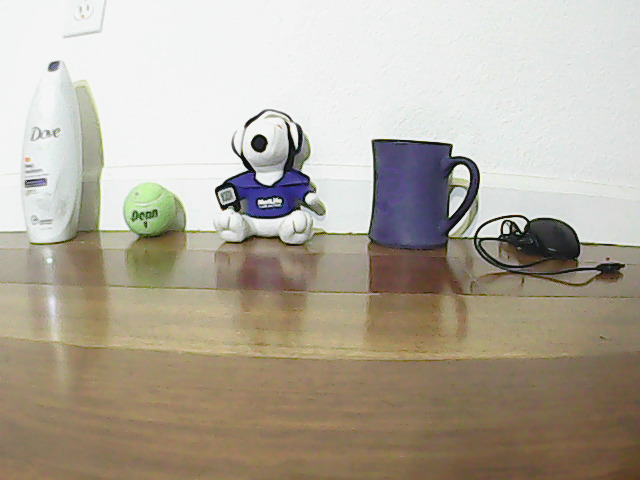ball: (118, 179, 181, 243)
mouse: (526, 212, 584, 266)
mug: (371, 133, 476, 249)
snoopy: (235, 107, 322, 248)
soap: (26, 48, 82, 244)
